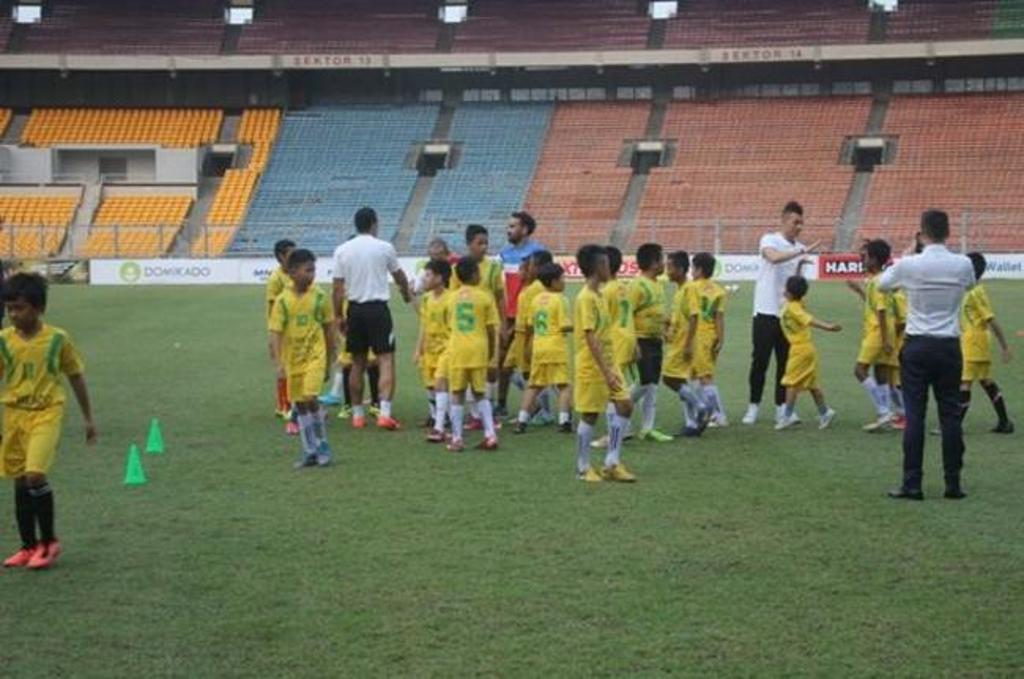face: (7, 295, 34, 328), (786, 212, 804, 239), (471, 233, 489, 260), (507, 216, 525, 241), (298, 260, 316, 285), (596, 255, 611, 281), (422, 269, 436, 290), (865, 250, 879, 270), (528, 258, 541, 279), (518, 263, 531, 282), (667, 260, 678, 282), (653, 252, 664, 274), (692, 259, 704, 279), (432, 248, 446, 263), (554, 272, 565, 291)
